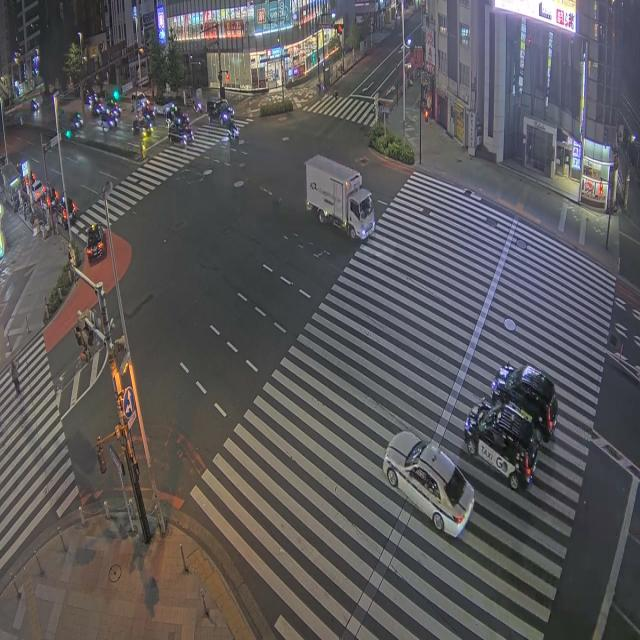car: (383, 432, 474, 536), (465, 399, 537, 490), (492, 363, 557, 441), (86, 224, 105, 261), (207, 99, 234, 122), (55, 201, 76, 229), (168, 122, 193, 144), (166, 108, 189, 125), (132, 118, 152, 137), (157, 99, 175, 116), (100, 112, 117, 128), (32, 181, 45, 201), (106, 101, 121, 118), (91, 101, 107, 116), (140, 107, 155, 122), (70, 112, 83, 129)
motorcycle: (193, 100, 202, 113), (31, 99, 39, 111)
truck: (306, 156, 374, 239), (1, 163, 20, 203)
